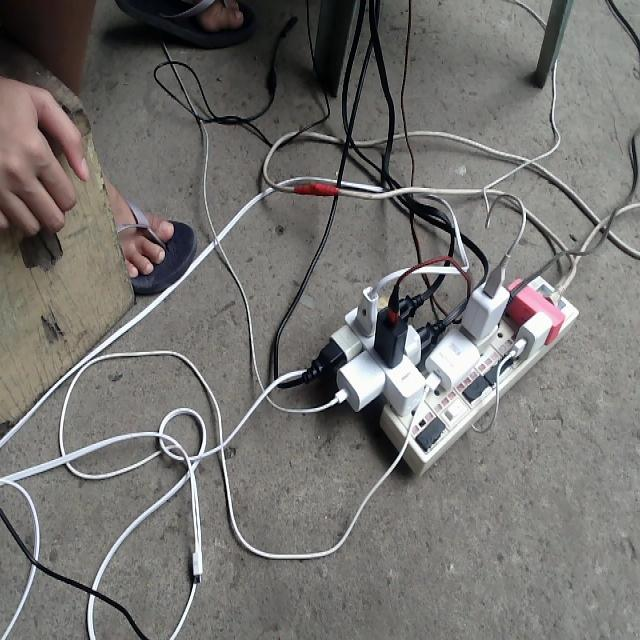-: (311, 266, 579, 474)
